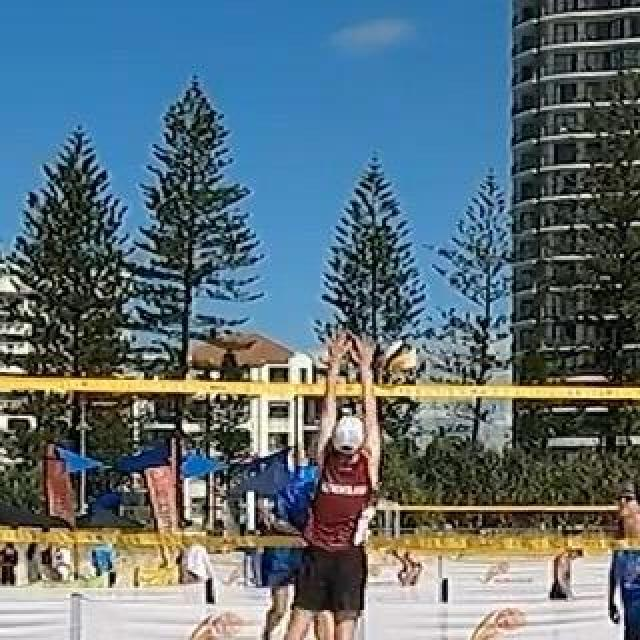volleyball: (384, 340, 418, 374)
